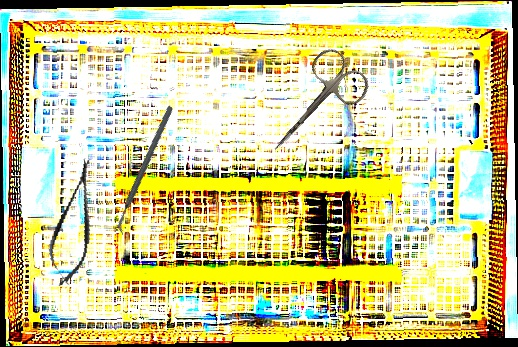Chopper: (78, 104, 213, 237)
Iris Scissors: (251, 43, 375, 170)
Micro Scissor: (40, 154, 109, 291)
